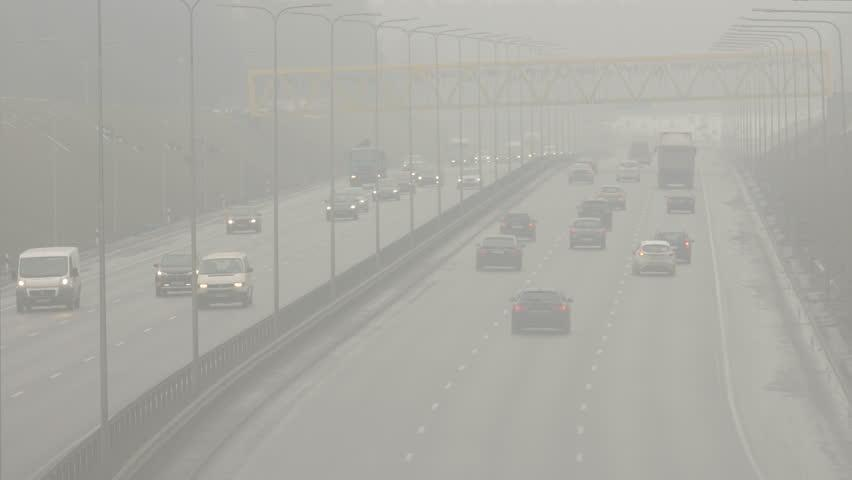bus: (654, 130, 697, 190), (347, 146, 387, 187)
car: (15, 245, 83, 311), (194, 251, 255, 308), (509, 289, 574, 334), (153, 252, 203, 298), (474, 234, 527, 272), (632, 240, 678, 277), (652, 230, 695, 266), (568, 217, 608, 250), (575, 197, 612, 231), (223, 205, 264, 234), (499, 212, 536, 243), (323, 192, 361, 220), (594, 185, 629, 211), (664, 187, 697, 214), (340, 186, 370, 214), (371, 178, 401, 202), (614, 160, 643, 183), (455, 167, 484, 190), (390, 171, 419, 194), (416, 166, 446, 188), (566, 162, 595, 184)
